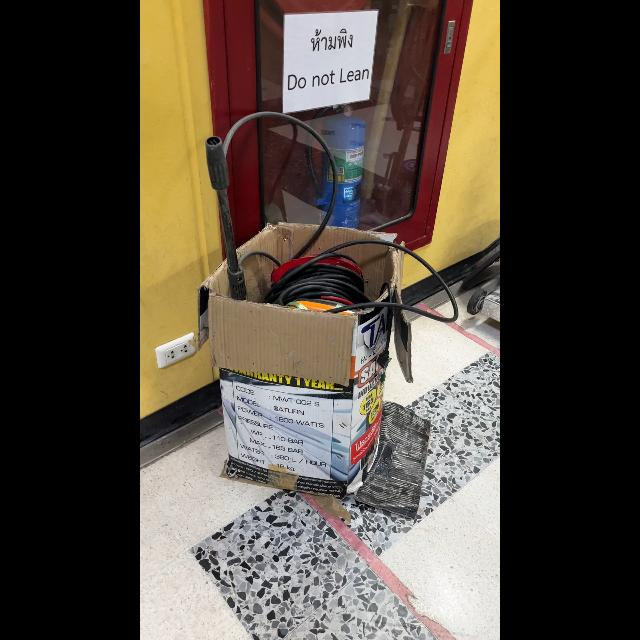cardboard_box: (192, 214, 418, 498)
